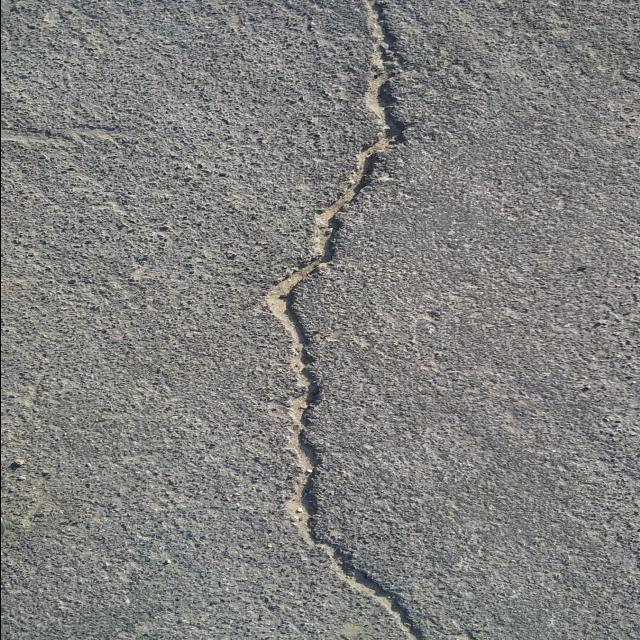Crack: (262, 0, 428, 640)
